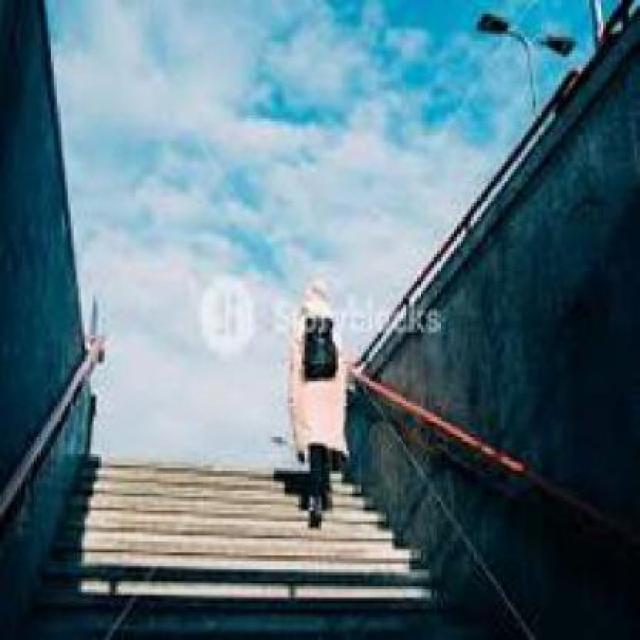stair: (63, 454, 415, 617)
